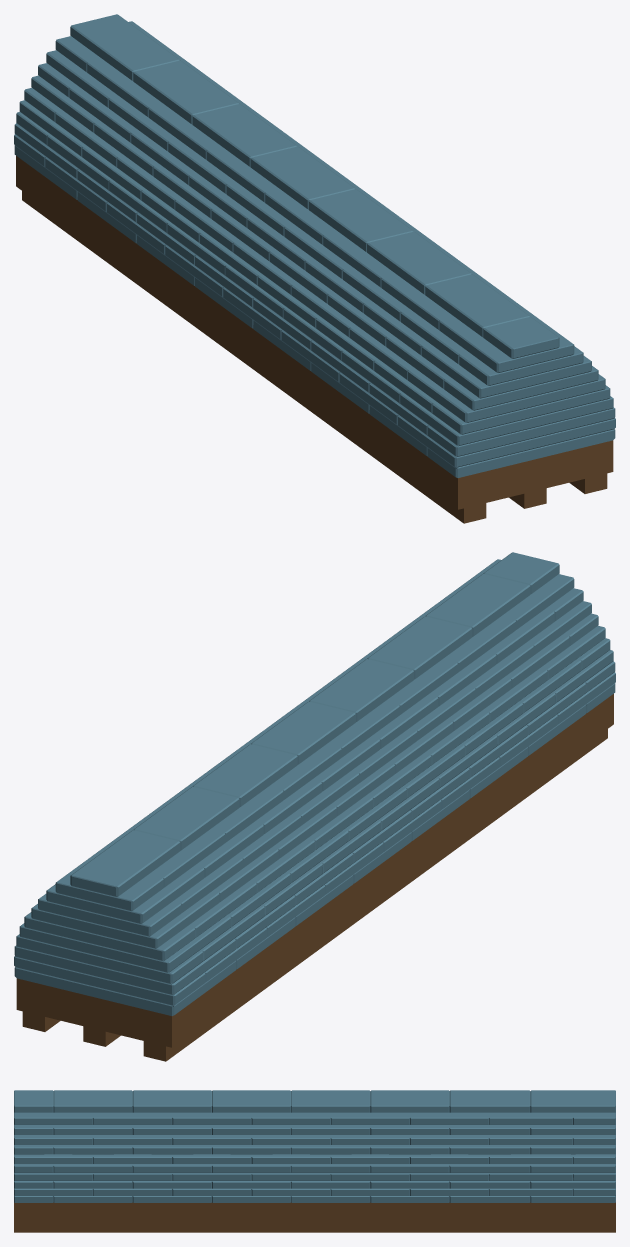
The model's file is BlueRooftop_Short.fbx.
3 views of the same model, one above another, from view 1: azimuth 30°, elevation 25°; view 2: azimuth 150°, elevation 25°; view 3: azimuth 270°, elevation 25° (orthographic). The views are drawn at different scales.
Parts seen in each view (by area): view 1: BlueRooftop_Short; view 2: BlueRooftop_Short; view 3: BlueRooftop_Short.
Boxes of the visible parts, x1=… form: BlueRooftop_Short: x1=14, y1=14, x2=615, y2=523; BlueRooftop_Short: x1=14, y1=552, x2=615, y2=1061; BlueRooftop_Short: x1=14, y1=1090, x2=615, y2=1232.
Size of what is drawn, in the model's own units: 80 by 77.28 by 380.
